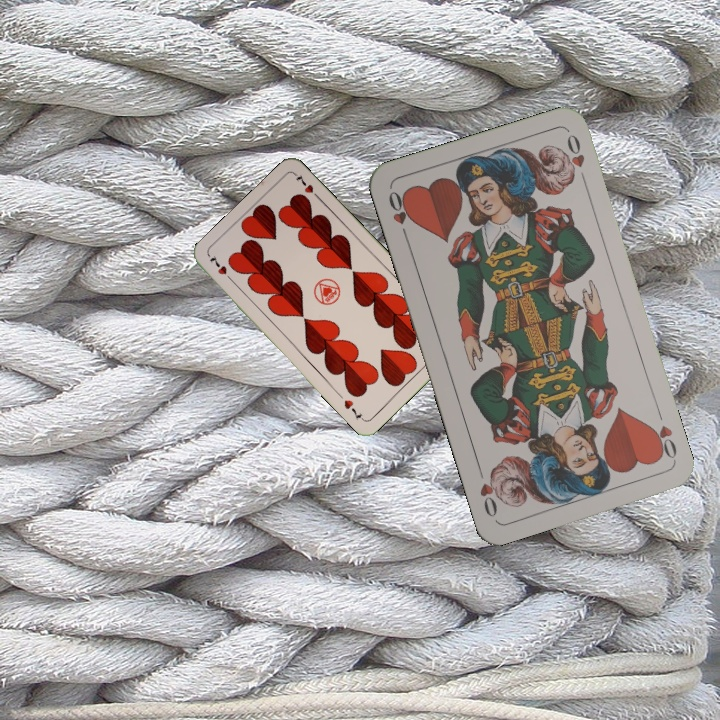H7: (206, 251, 237, 285)
HO: (384, 186, 415, 244), (646, 421, 680, 463)
